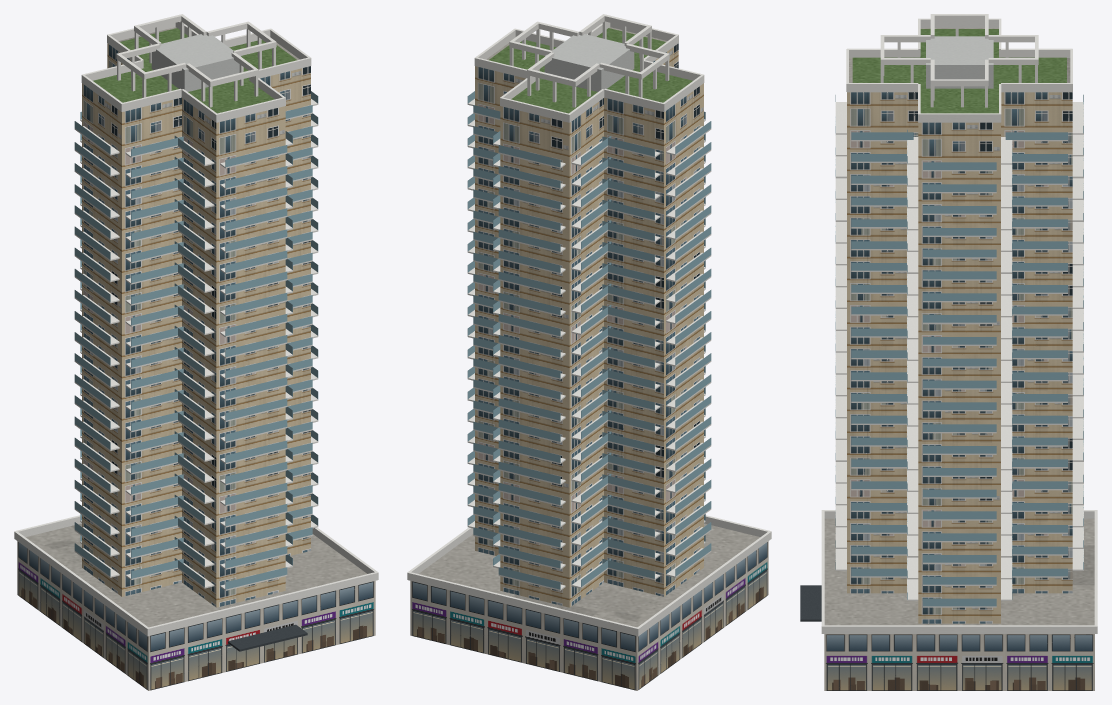
Rendered from OW_CaoOc_CH_ChuThap_82.fbx.
The picture shows the model from 3 angles, left to right: view 1: azimuth 30°, elevation 25°; view 2: azimuth 150°, elevation 25°; view 3: azimuth 270°, elevation 25°; orthographic projection. The views are drawn at different scales.
Parts seen in each view (by area): view 1: OW_CaoOc_CH_ChuThap_82_LOD0; view 2: OW_CaoOc_CH_ChuThap_82_LOD0; view 3: OW_CaoOc_CH_ChuThap_82_LOD0.
Boxes of the visible parts, x1,y1,x2,y2 form: OW_CaoOc_CH_ChuThap_82_LOD0: [14, 14, 378, 690]; OW_CaoOc_CH_ChuThap_82_LOD0: [407, 14, 771, 690]; OW_CaoOc_CH_ChuThap_82_LOD0: [800, 14, 1097, 690].
Size of what is drawn, in the model's own units: 36.7 by 86 by 39.55.
